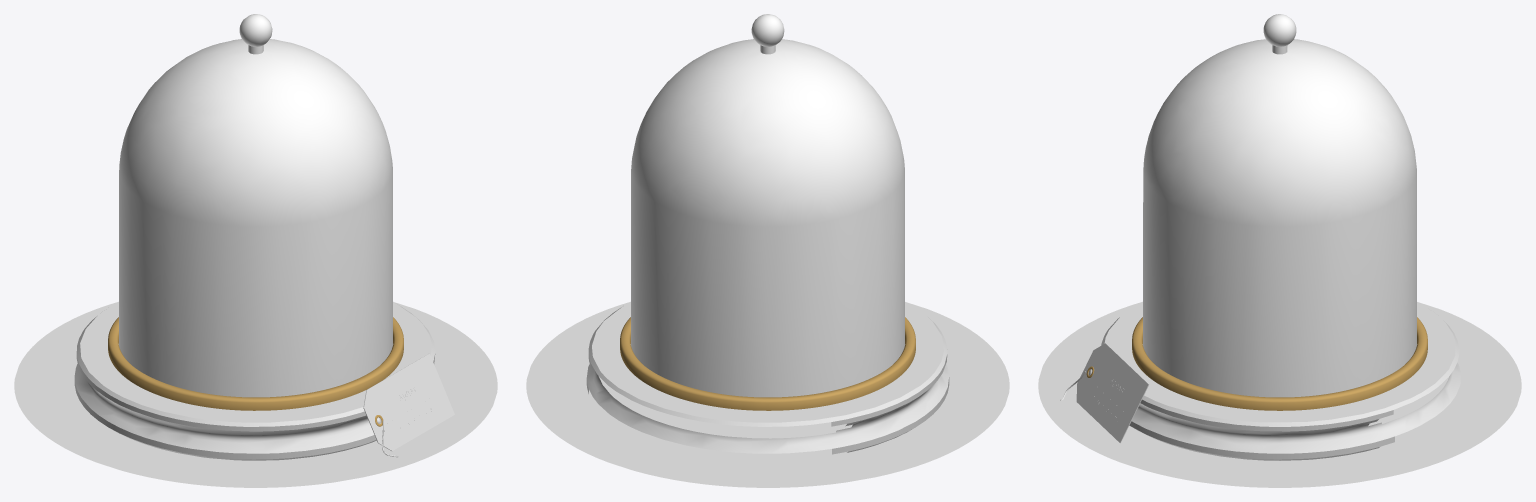
The picture shows the model from 3 angles, left to right: view 1: azimuth 30°, elevation 25°; view 2: azimuth 150°, elevation 25°; view 3: azimuth 270°, elevation 25°; orthographic projection.
Parts seen in each view (by area): view 1: jar_glass, set_all, jar_rim; view 2: jar_glass, set_all, jar_rim; view 3: jar_glass, set_all, jar_rim.
Part boxes in pixels (x1,y1,x2,y2): jar_glass: (119, 14, 392, 397); set_all: (14, 301, 497, 487); jar_rim: (108, 317, 403, 410); jar_glass: (631, 14, 904, 397); set_all: (526, 301, 1009, 487); jar_rim: (620, 317, 915, 410); jar_glass: (1143, 14, 1416, 397); set_all: (1038, 301, 1521, 487); jar_rim: (1132, 317, 1427, 410).
Bounding box in the file's own units: 1.52 × 1.28 × 1.52.
